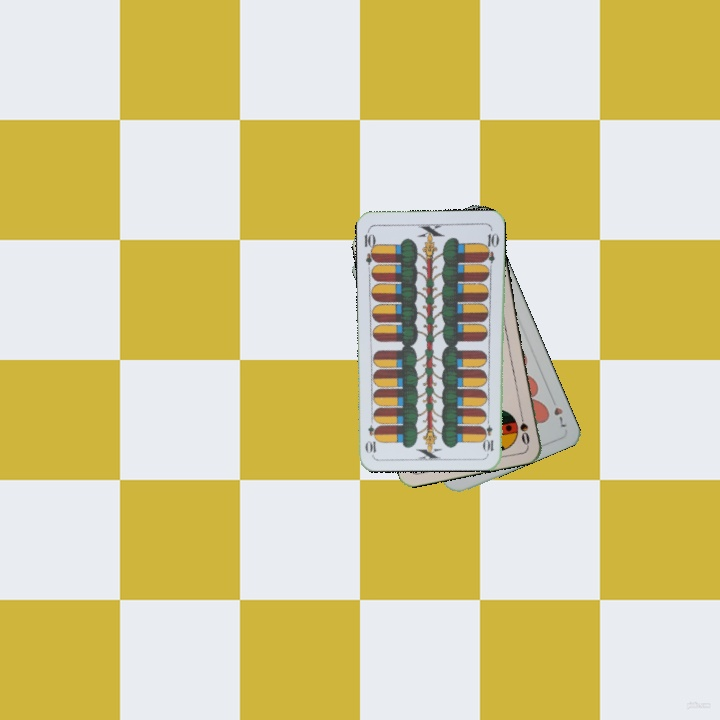E10: (360, 226, 379, 266), (482, 414, 496, 454)
H7: (547, 393, 569, 430)
SO: (516, 407, 532, 448)
